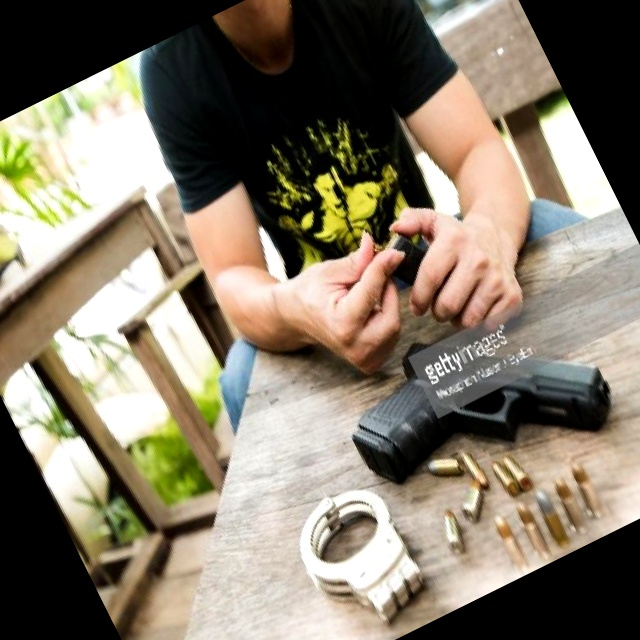gun: (324, 269, 628, 532)
